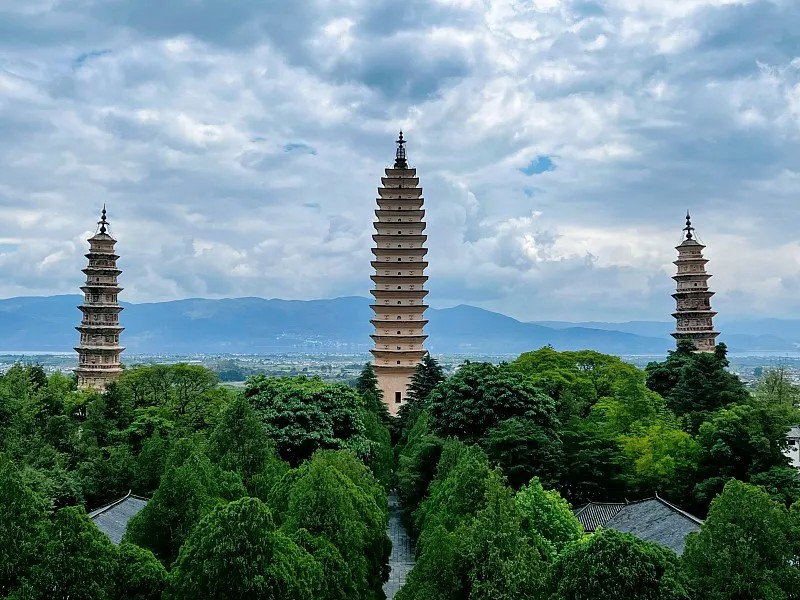ThreePagoda: (369, 129, 429, 416)
